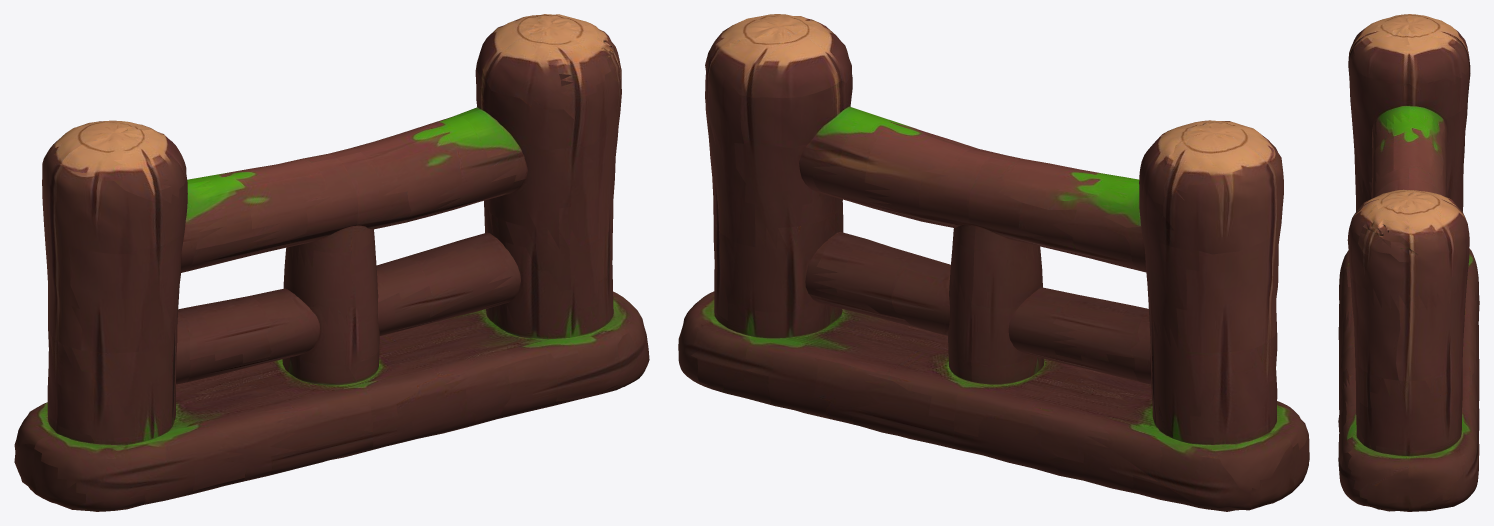
Rendered from la_barandilla.glb.
3 views of the same model, side by side, from view 1: azimuth 30°, elevation 25°; view 2: azimuth 150°, elevation 25°; view 3: azimuth 270°, elevation 25° (orthographic). The views are drawn at different scales.
Bounding box in the file's own units: 1 × 0.5566 × 0.25.
1 material, 1 textured.
